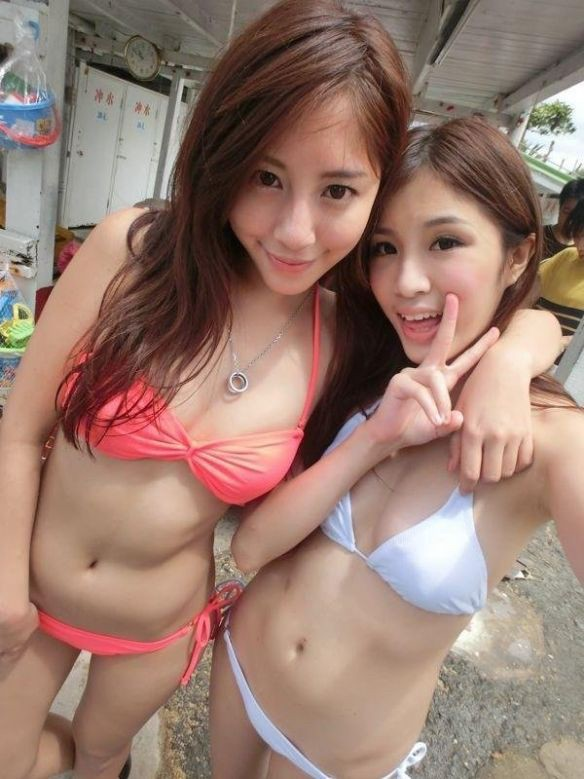people: (38, 2, 399, 769), (236, 120, 584, 779)
